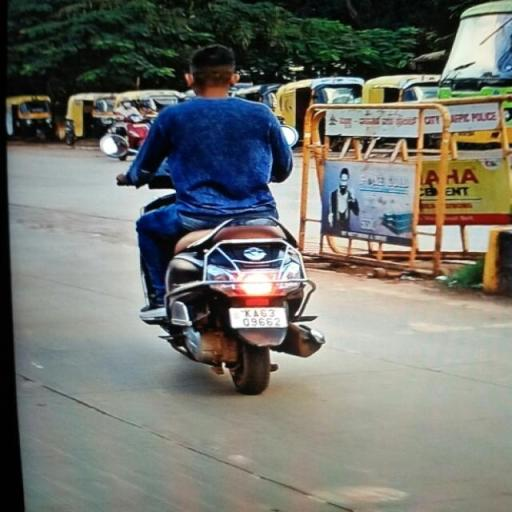bike: (94, 40, 344, 400)
numberplate: (230, 308, 288, 328)
withouthelmet: (189, 46, 239, 94)
